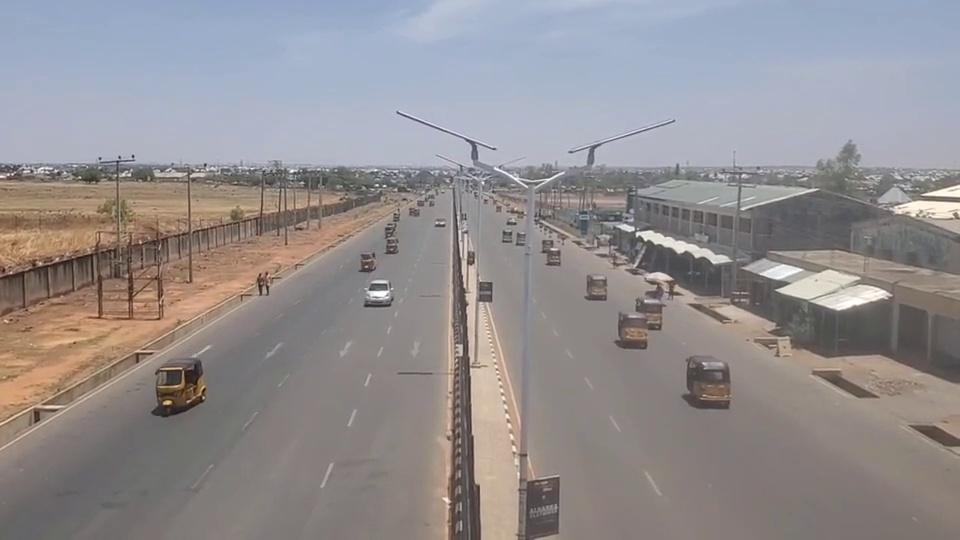keke: (154, 356, 206, 413), (685, 354, 730, 407), (617, 310, 649, 348)
